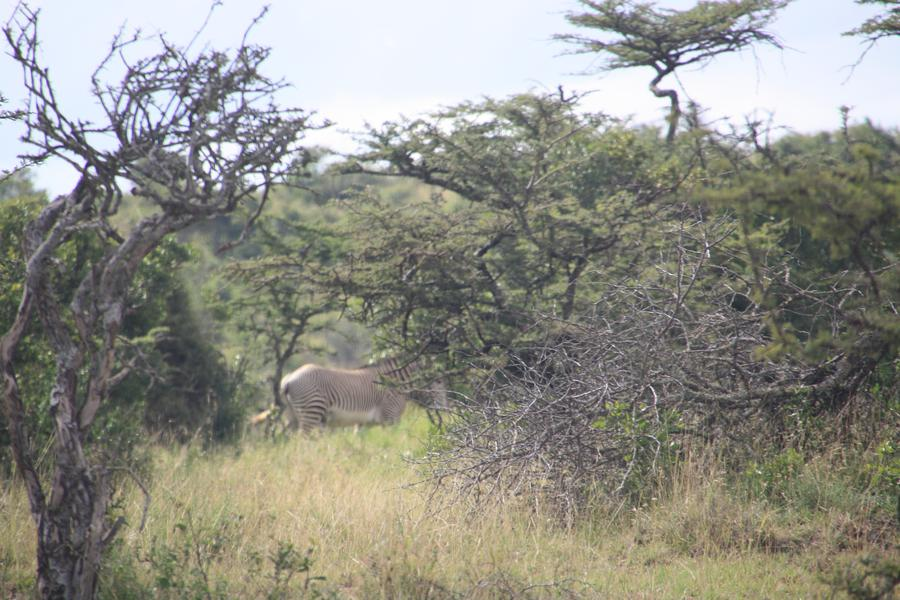zebra_grevys: (286, 357, 376, 416)
